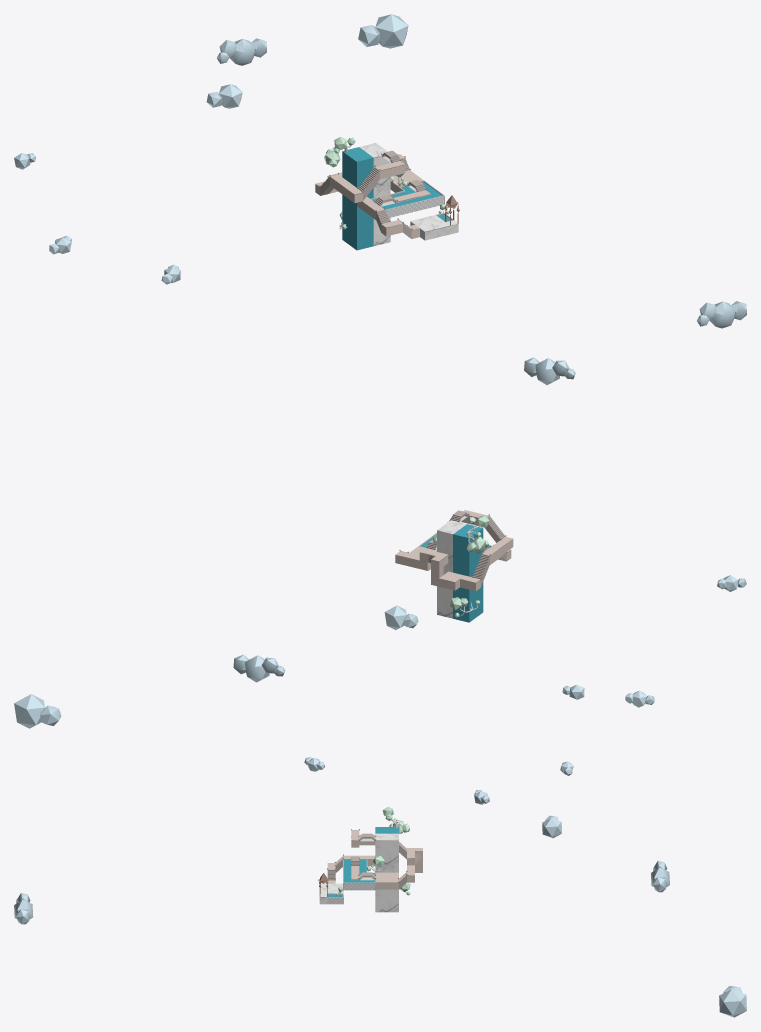
File: level-snoozer-gesamt.fbx
3 views of the same model, one above another, from view 1: azimuth 30°, elevation 25°; view 2: azimuth 150°, elevation 25°; view 3: azimuth 270°, elevation 25° (orthographic). The views are drawn at different scales.
Parts seen in each view (by area): view 1: Water2, Wege_Gesamt, Wolke_3, Wolke_1, Wolke_5, Endplattform_Mamor, Startplattform_Mamor, Wolke, Mauer_vorne, Water; view 2: Wege_Gesamt, Water2, Endplattform_Mamor, Wolke_3, Wolke_5, Wolke_1; view 3: Wege_Gesamt, Endplattform_Mamor, Wolke_3, Wolke_1, Wolke_5.
Boxes of the visible parts, bbox=[...] form: Water2: bbox=[342, 147, 373, 250]; Wege_Gesamt: bbox=[315, 154, 430, 238]; Wolke_3: bbox=[358, 14, 408, 48]; Wolke_1: bbox=[217, 38, 266, 65]; Wolke_5: bbox=[697, 301, 746, 328]; Endplattform_Mamor: bbox=[359, 143, 390, 246]; Startplattform_Mamor: bbox=[410, 215, 458, 240]; Wolke: bbox=[206, 84, 242, 108]; Mauer_vorne: bbox=[385, 195, 444, 217]; Water: bbox=[372, 182, 451, 221]; Wege_Gesamt: bbox=[395, 510, 513, 590]; Water2: bbox=[453, 524, 483, 622]; Endplattform_Mamor: bbox=[437, 520, 466, 618]; Wolke_3: bbox=[14, 694, 61, 728]; Wolke_5: bbox=[524, 357, 575, 385]; Wolke_1: bbox=[233, 654, 285, 682]; Wege_Gesamt: bbox=[327, 830, 422, 889]; Endplattform_Mamor: bbox=[375, 833, 398, 912]; Wolke_3: bbox=[719, 986, 746, 1017]; Wolke_1: bbox=[651, 860, 669, 892]; Wolke_5: bbox=[14, 893, 33, 924].
Size of the model in its own units: 6066 by 1483 by 9240.
Materials: 14 (7 with a texture image).
